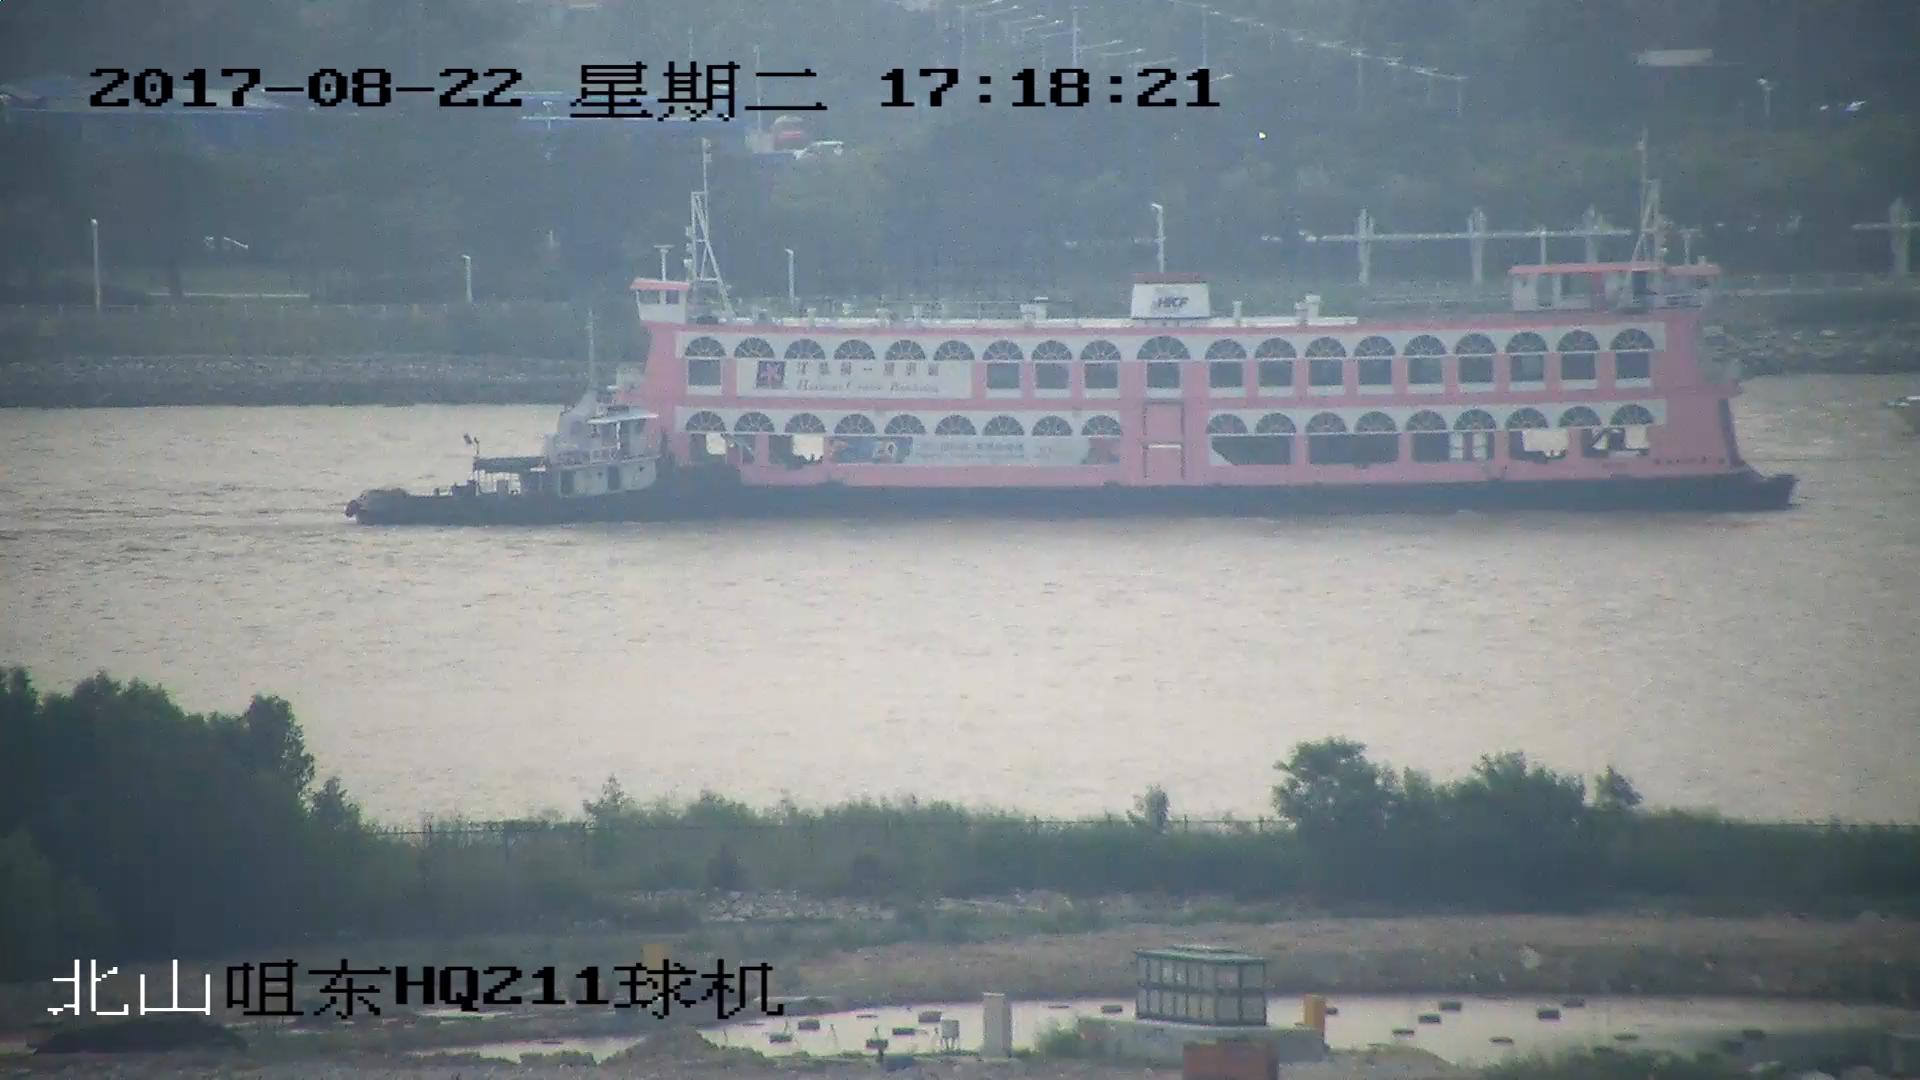passenger ship: (348, 191, 1802, 523)
